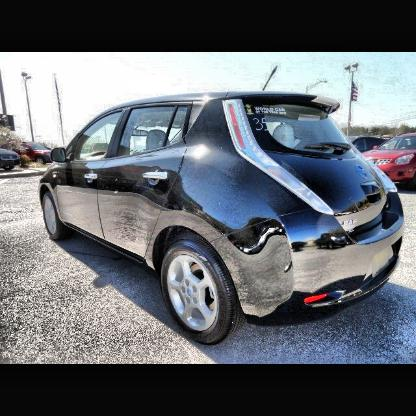Nissan Leaf Hatchback 2012: (40, 90, 407, 350)
